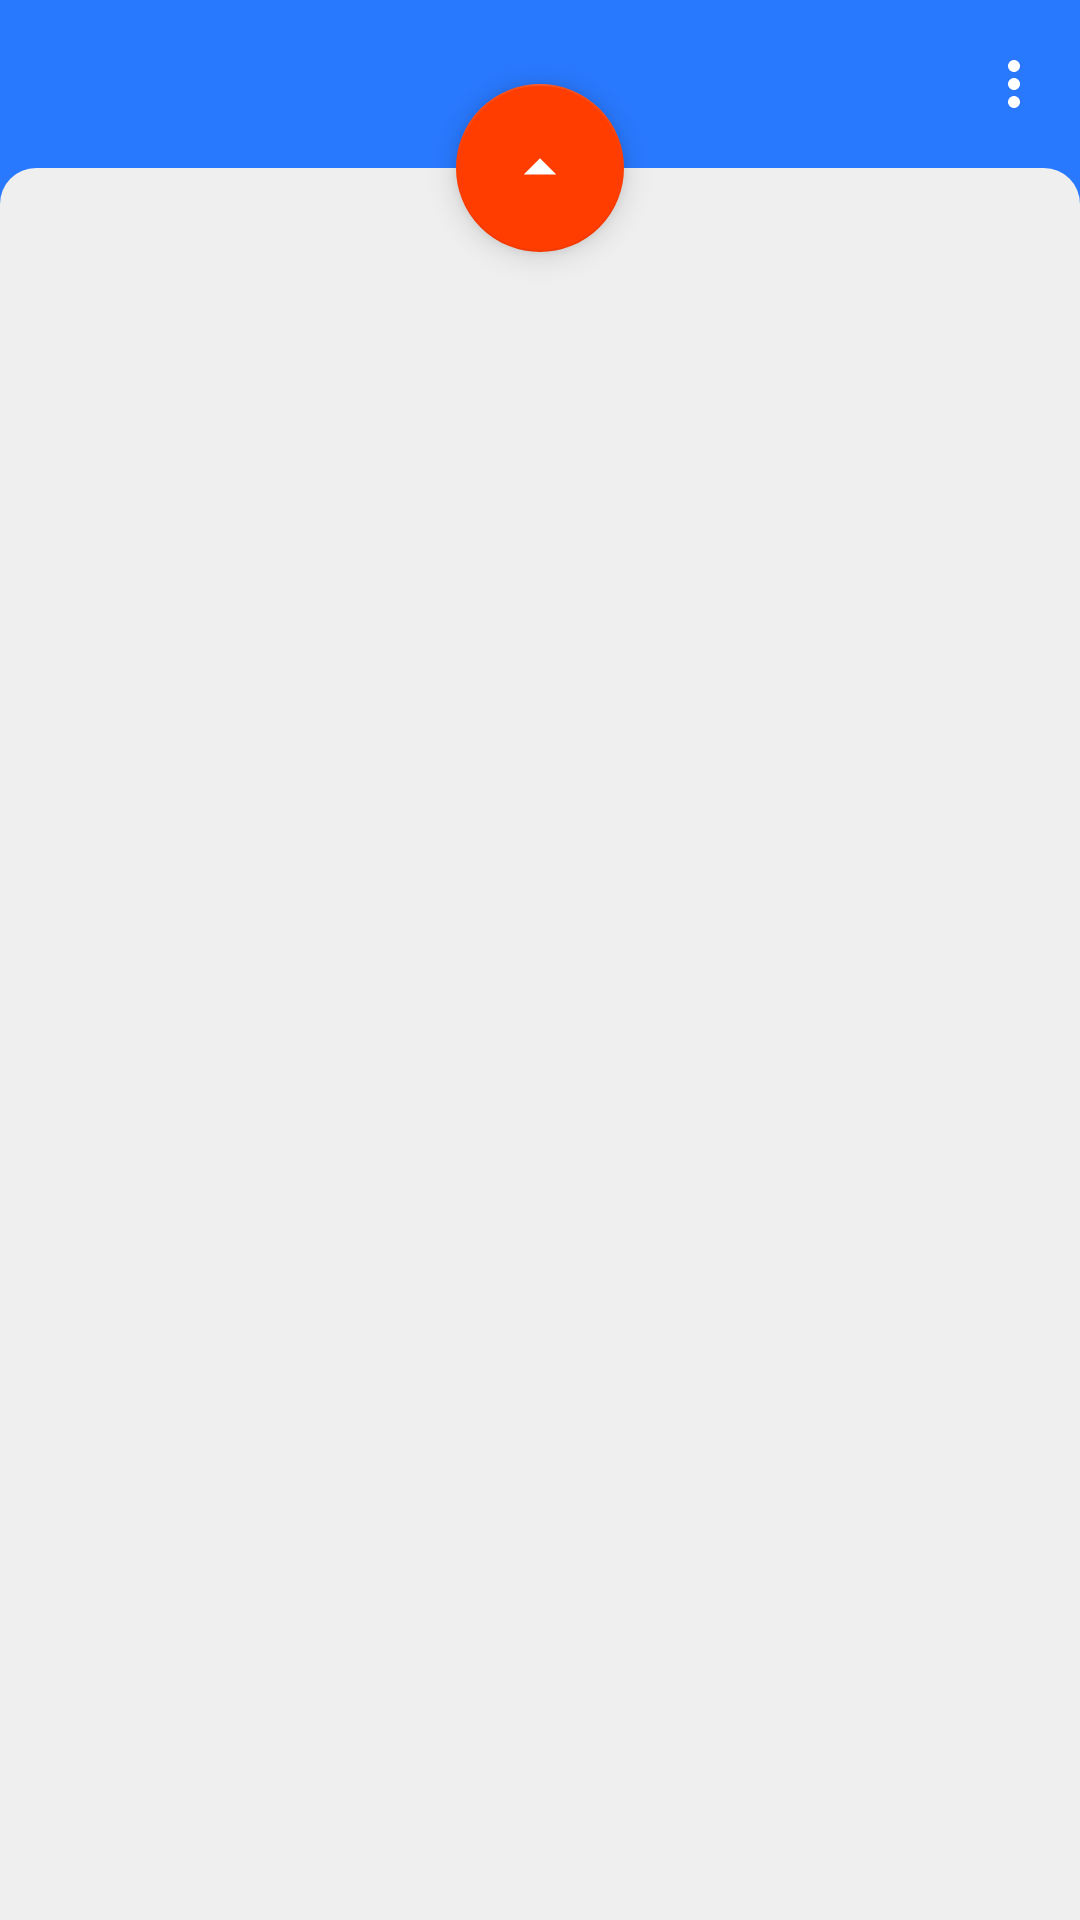

Named icons in this screenshot (1080 x 1920) and their centers, point (x, y):
arrow up: point (540, 168)
